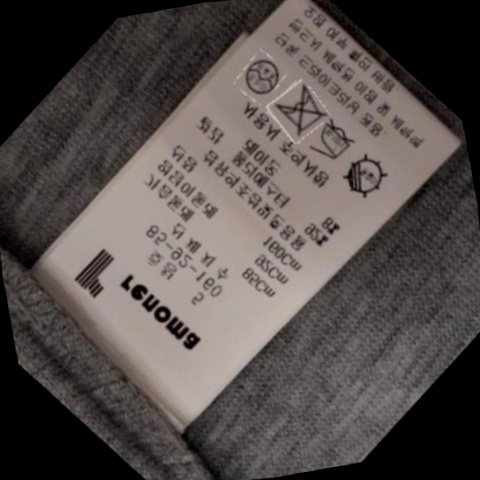DN_wash: (267, 83, 329, 138)
dry_clean_petrol_only: (236, 51, 285, 99)
iron_low: (306, 118, 361, 167)
line_dry_in_shade: (332, 152, 391, 203)
